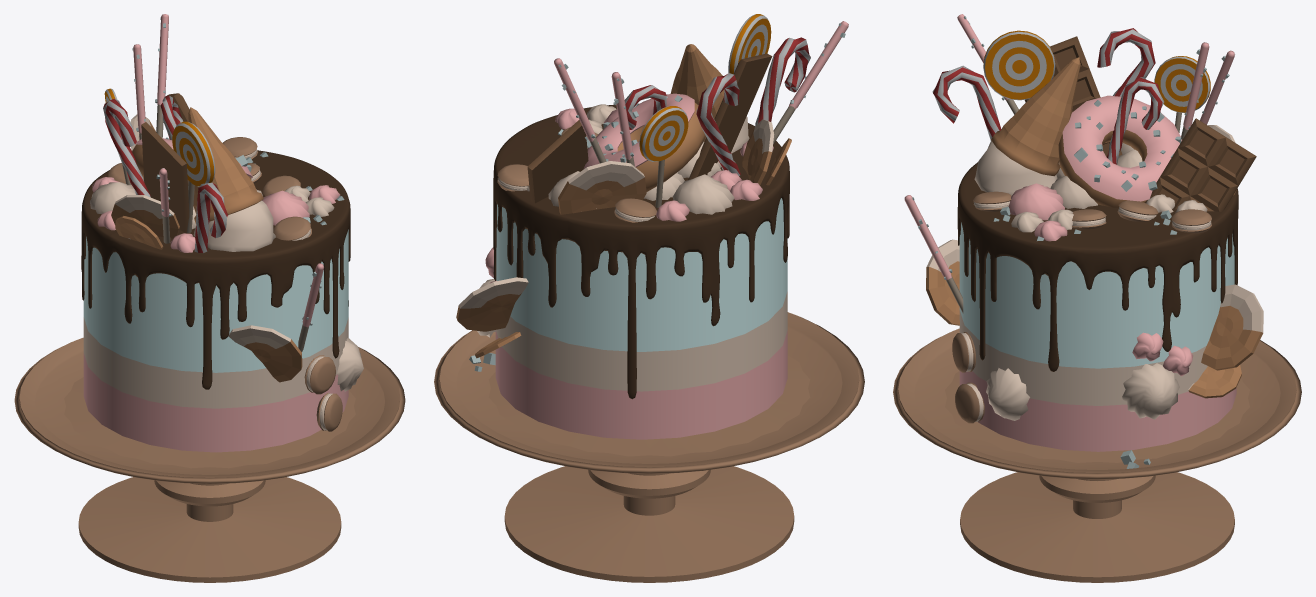
The model's file is cake.fbx.
3 renders of one model, left to right at view 1: azimuth 30°, elevation 25°; view 2: azimuth 150°, elevation 25°; view 3: azimuth 270°, elevation 25°, orthographic. The views are drawn at different scales.
Parts seen in each view (by area): view 1: pCylinder19, pCylinder1, pCylinder3, pCylinder18, pCube70, pCylinder35, pCylinder28, pCylinder27, pCylinder25, pCylinder33, palepink3, pCylinder22 (+12 smaller); view 2: pCylinder19, pCylinder1, pCylinder3, pCube38, pCylinder32, pCube70, pCube54, pCylinder30, pCylinder29, pCylinder25, pCylinder18, pCylinder27 (+10 smaller); view 3: pCylinder19, pCylinder1, pCylinder3, pCube38, pCylinder18, pCube54, pCylinder28, pCylinder30, palepink17, pCylinder29, pCylinder35, pCylinder25 (+19 smaller).
Part boxes in pixels (x1,y1,x2,y2): pCylinder19: (14,337,405,582); pCylinder1: (83,229,348,452); pCylinder3: (81,150,350,389); pCylinder18: (188,107,275,251); pCube70: (141,122,189,232); pCylinder35: (228,325,302,382); pCylinder28: (172,121,215,232); pCylinder27: (103,98,150,197); pCylinder25: (194,182,227,252); pCylinder33: (111,195,179,238); palepink3: (262,190,309,225); pCylinder22: (155,14,168,137); pCylinder19: (434,312,864,582); pCylinder1: (495,198,787,439); pCylinder3: (493,103,789,399); pCube38: (583,93,705,191); pCylinder32: (558,161,646,214); pCube70: (688,53,772,179); pCube54: (527,120,588,203); pCylinder30: (456,277,528,331); pCylinder29: (639,106,688,207); pCylinder25: (755,37,810,126); pCylinder18: (670,44,749,153); pCylinder27: (696,73,740,175); pCylinder19: (893,328,1301,582); pCylinder1: (959,222,1236,451); pCylinder3: (957,162,1238,371); pCube38: (1058,95,1181,207); pCylinder18: (974,57,1080,195); pCube54: (1144,118,1256,211); pCylinder28: (983,30,1055,101); pCylinder30: (1201,284,1263,370); palepink17: (1122,363,1179,419); pCylinder29: (1154,56,1210,132); pCylinder35: (926,239,959,325); pCylinder25: (932,65,1001,140).
Size of the model in its own units: 9.26 by 9.26 by 12.08.
